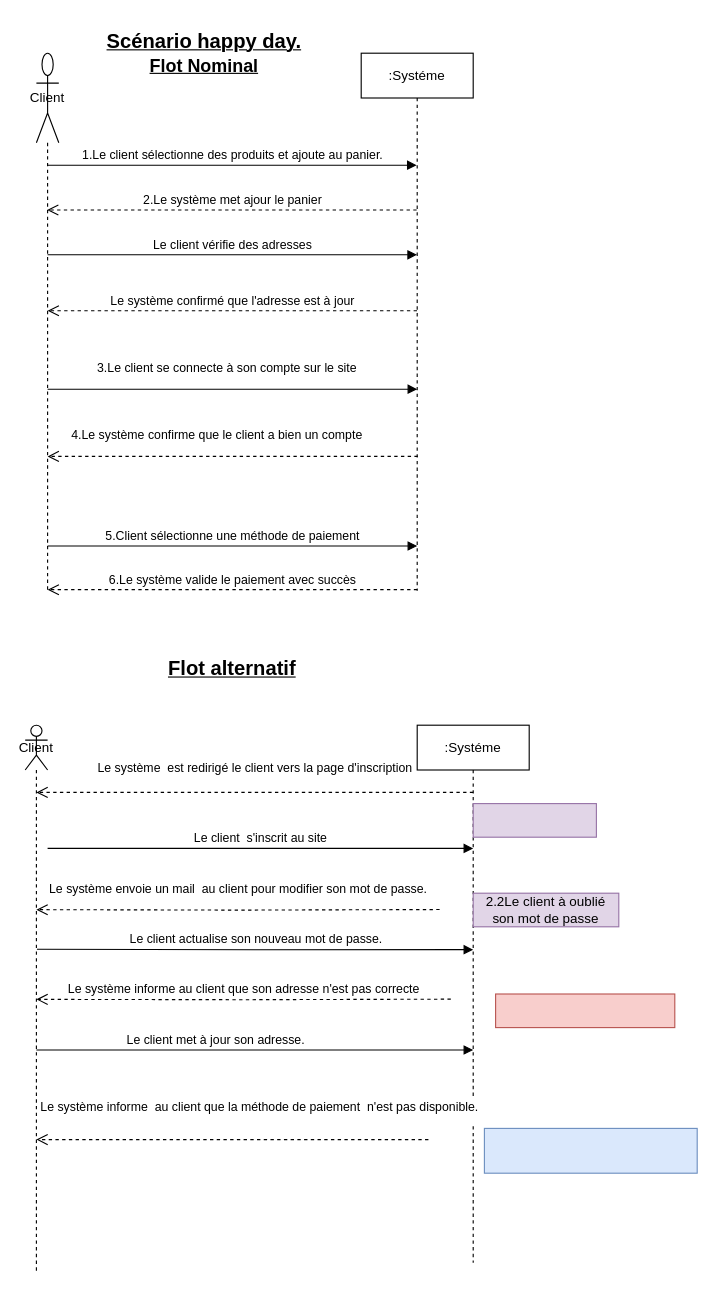
The diagram is 717 pixels wide and 1294 high, and some of its shapes have lost their labels. Each missing label, with the centre of its shape:
2.2Le client n'est pas compte: pixel 534 819
3.1 L’adresse n’est pas à jour.: pixel 584 1010
4.1 Méthode de paiement n’est pas disponible.: pixel 590 1150
